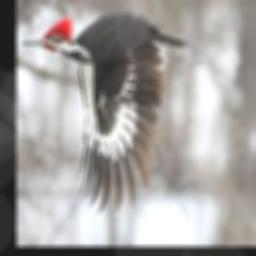Woodpecker: (21, 14, 190, 210)
